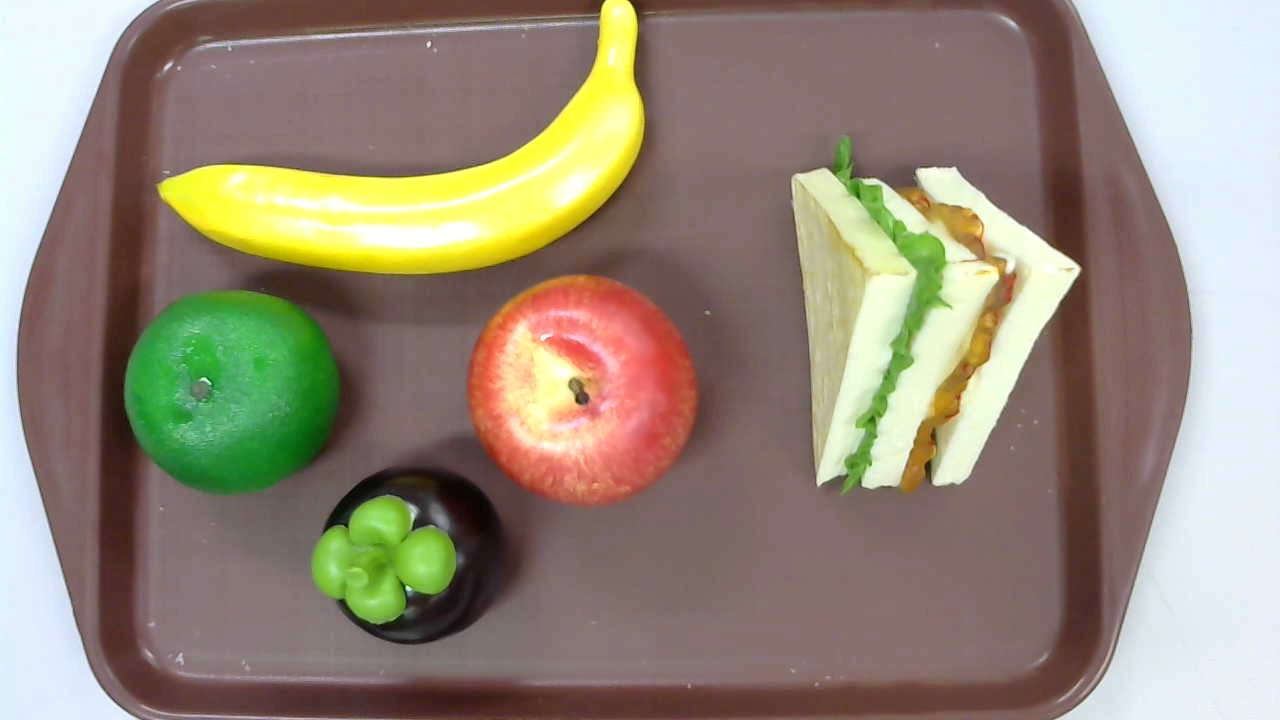banana: (157, 1, 646, 277)
green orange: (123, 290, 339, 496)
mangosteen: (311, 465, 506, 647)
red apple: (468, 272, 700, 511)
sandwich: (791, 134, 1081, 497)
